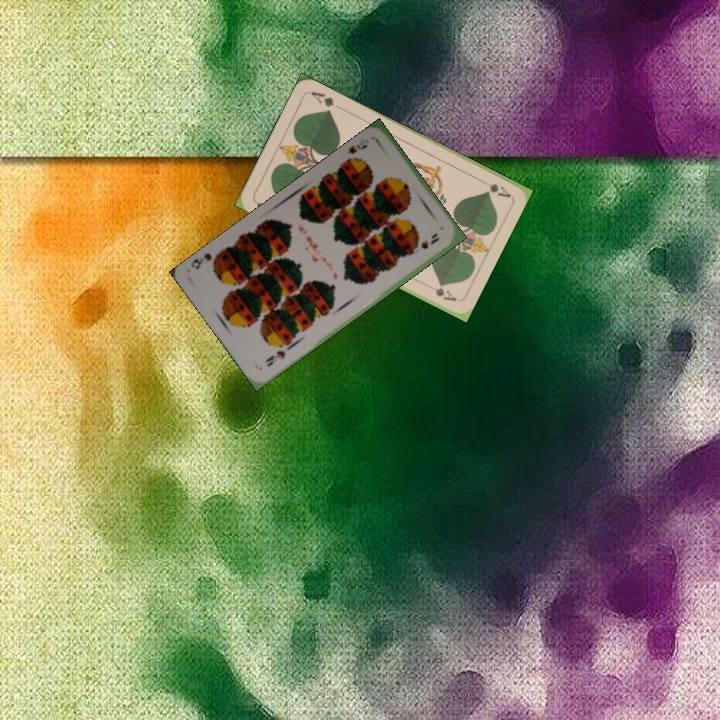GA: (475, 175, 513, 200)
S9: (262, 340, 293, 370), (341, 140, 370, 166)
